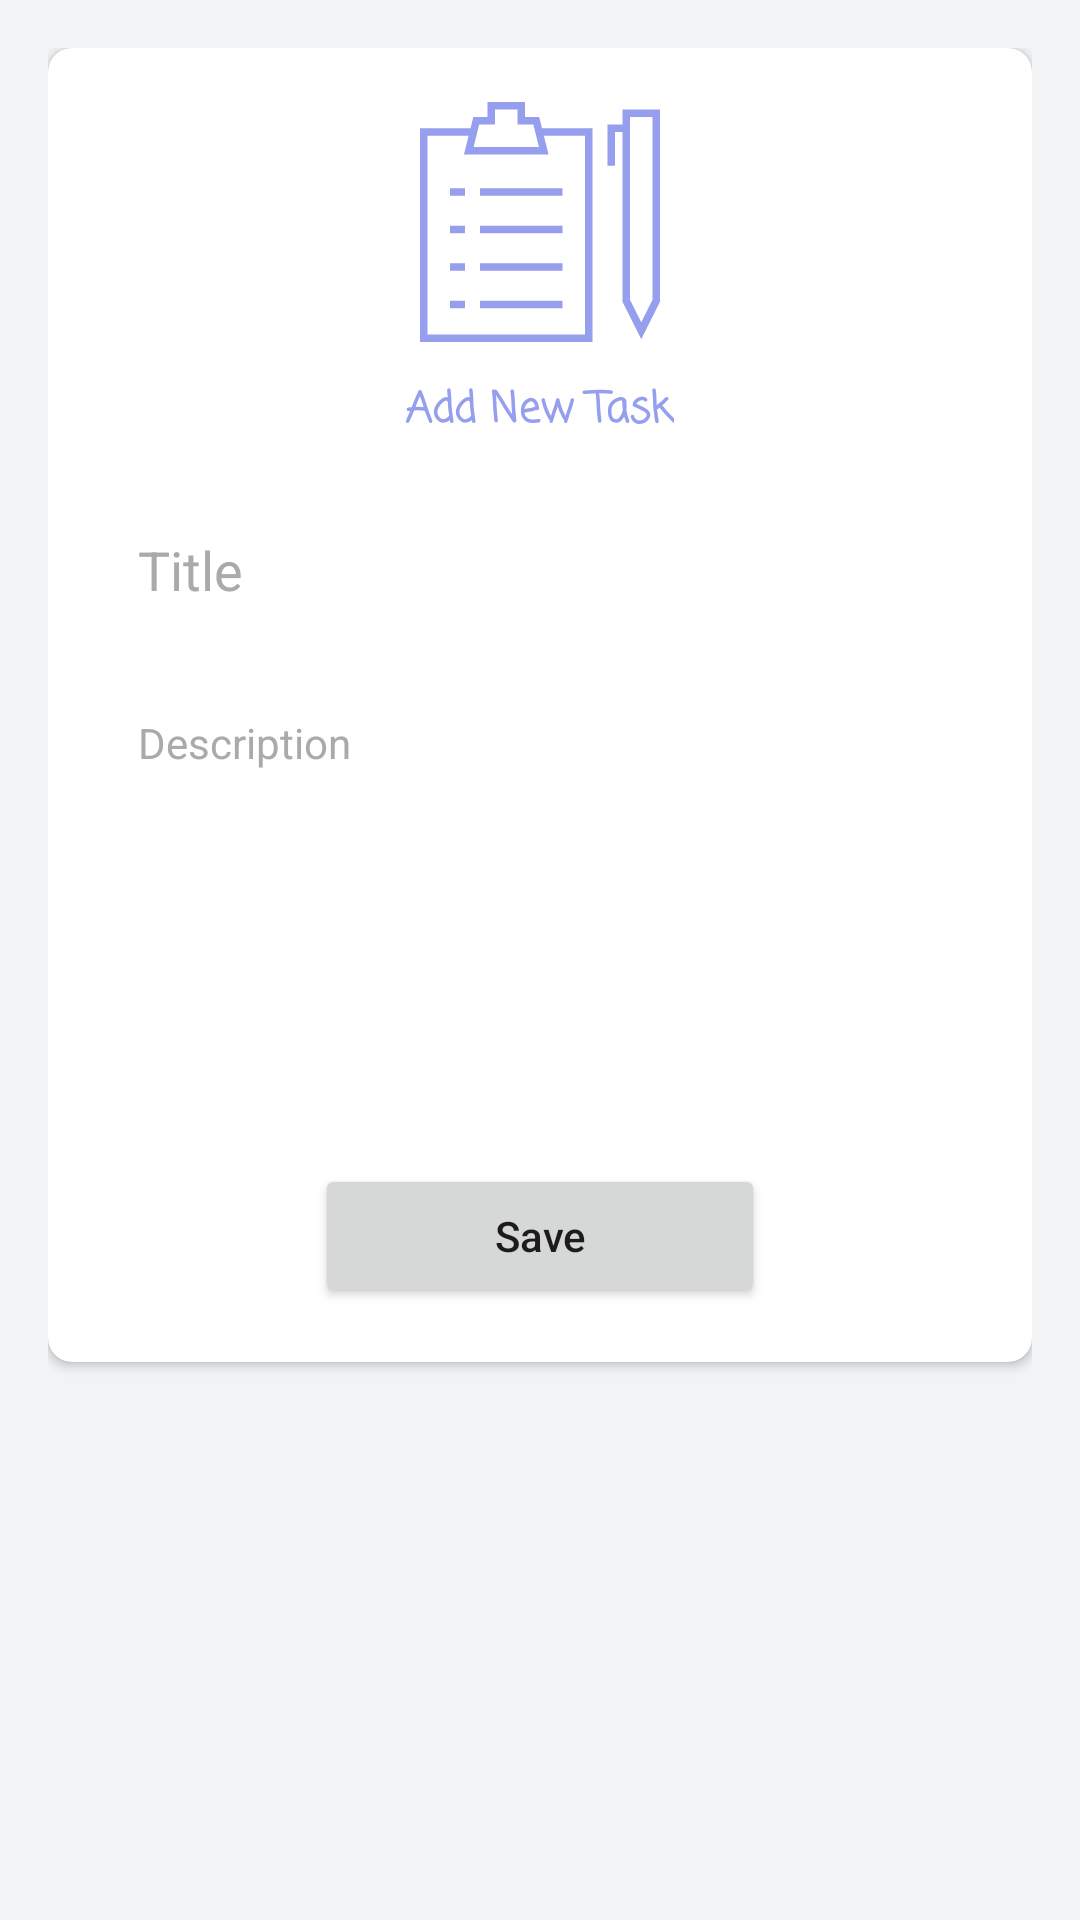

Where icons sit on this 1080*1920 app screen, as box=[x1, y1, x2, y2]:
todo: box=[420, 102, 660, 342]
